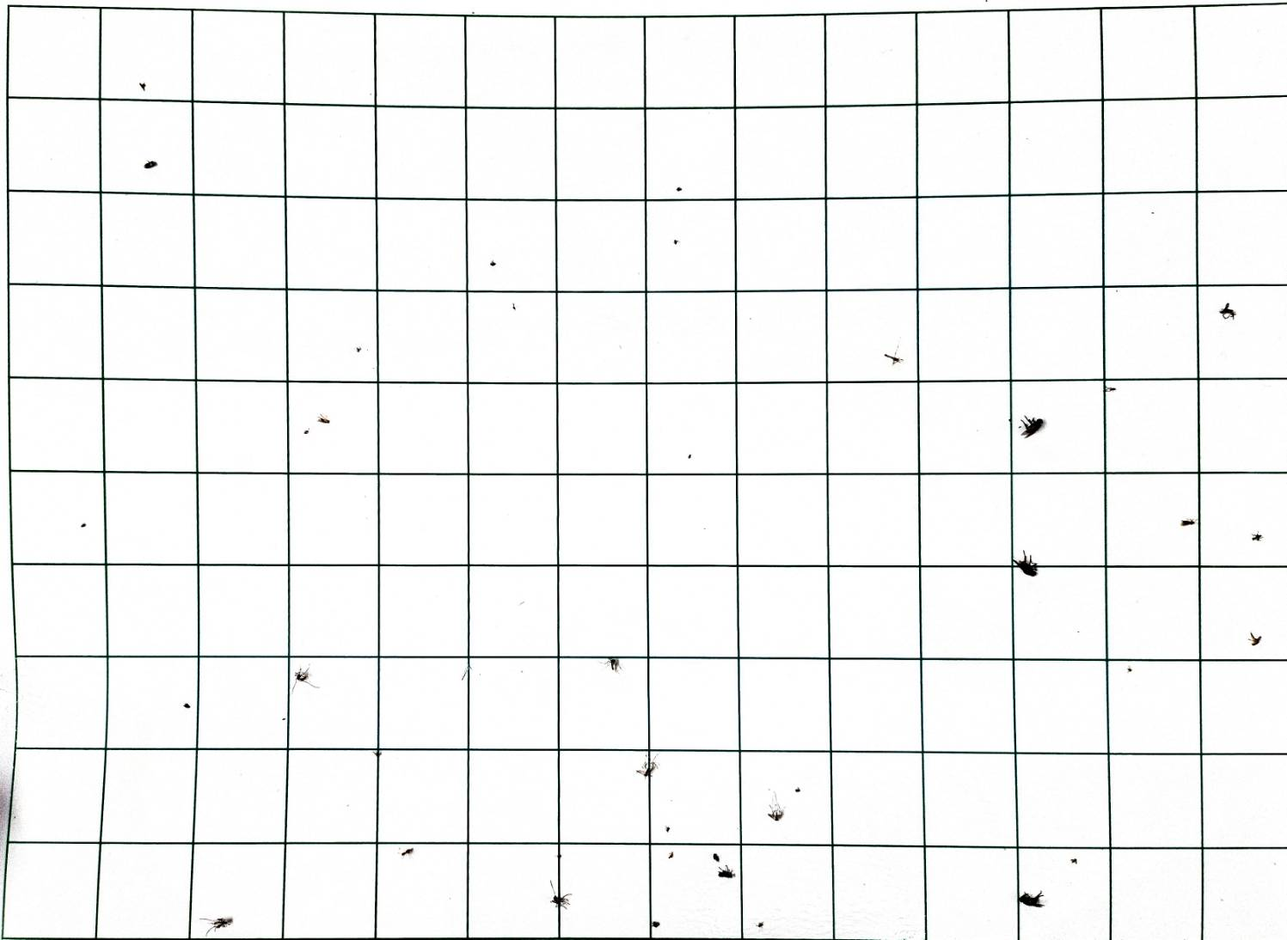fly: (1013, 550, 1039, 578), (1016, 418, 1044, 437), (1019, 889, 1046, 907)
test: (291, 663, 319, 694), (549, 879, 572, 911), (196, 914, 231, 935), (303, 413, 331, 439), (635, 751, 660, 778), (766, 790, 784, 822), (600, 656, 624, 673), (885, 352, 904, 365), (717, 865, 736, 878), (1220, 304, 1236, 319), (1250, 632, 1264, 646), (1181, 517, 1197, 526), (400, 848, 415, 857), (317, 413, 330, 423), (144, 159, 158, 168), (1252, 532, 1264, 542), (649, 920, 656, 935), (712, 851, 721, 862), (462, 667, 470, 679), (1023, 549, 1028, 564), (372, 749, 381, 757), (652, 913, 658, 924), (652, 919, 660, 927), (139, 82, 146, 91), (1105, 386, 1115, 392), (667, 851, 674, 859), (757, 920, 764, 927), (355, 346, 362, 353), (1070, 857, 1078, 863), (183, 702, 191, 708), (511, 302, 517, 310), (490, 260, 496, 267), (675, 186, 682, 192), (556, 852, 562, 858), (1127, 666, 1133, 672), (673, 239, 679, 245), (303, 429, 309, 435), (665, 824, 670, 831), (80, 522, 87, 527), (795, 787, 801, 792), (688, 453, 692, 459), (282, 716, 286, 721)
